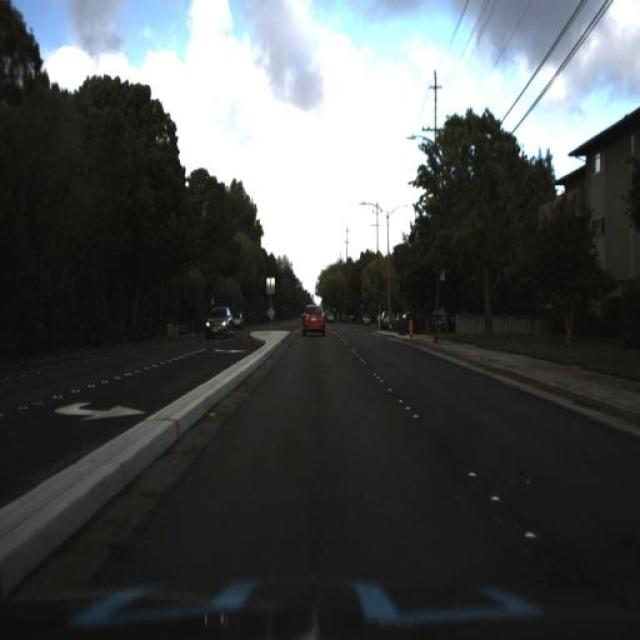car: (200, 303, 236, 337), (300, 297, 325, 337), (203, 306, 234, 338), (233, 304, 245, 332)
